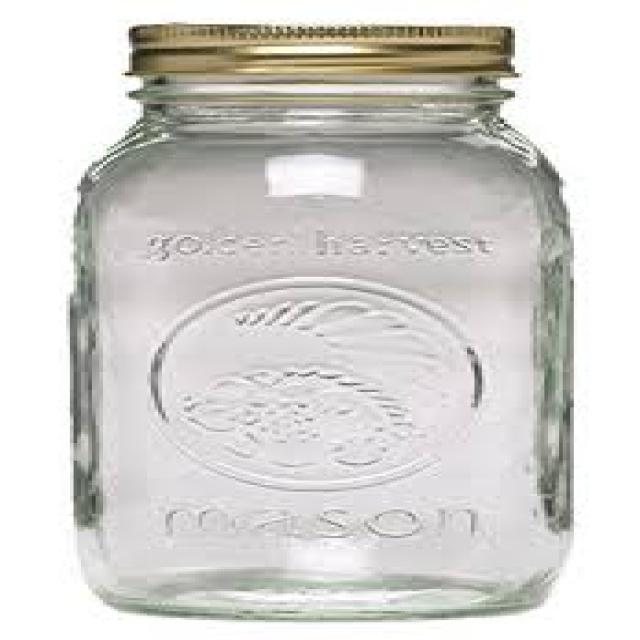Dry Waste: (57, 16, 584, 623)
